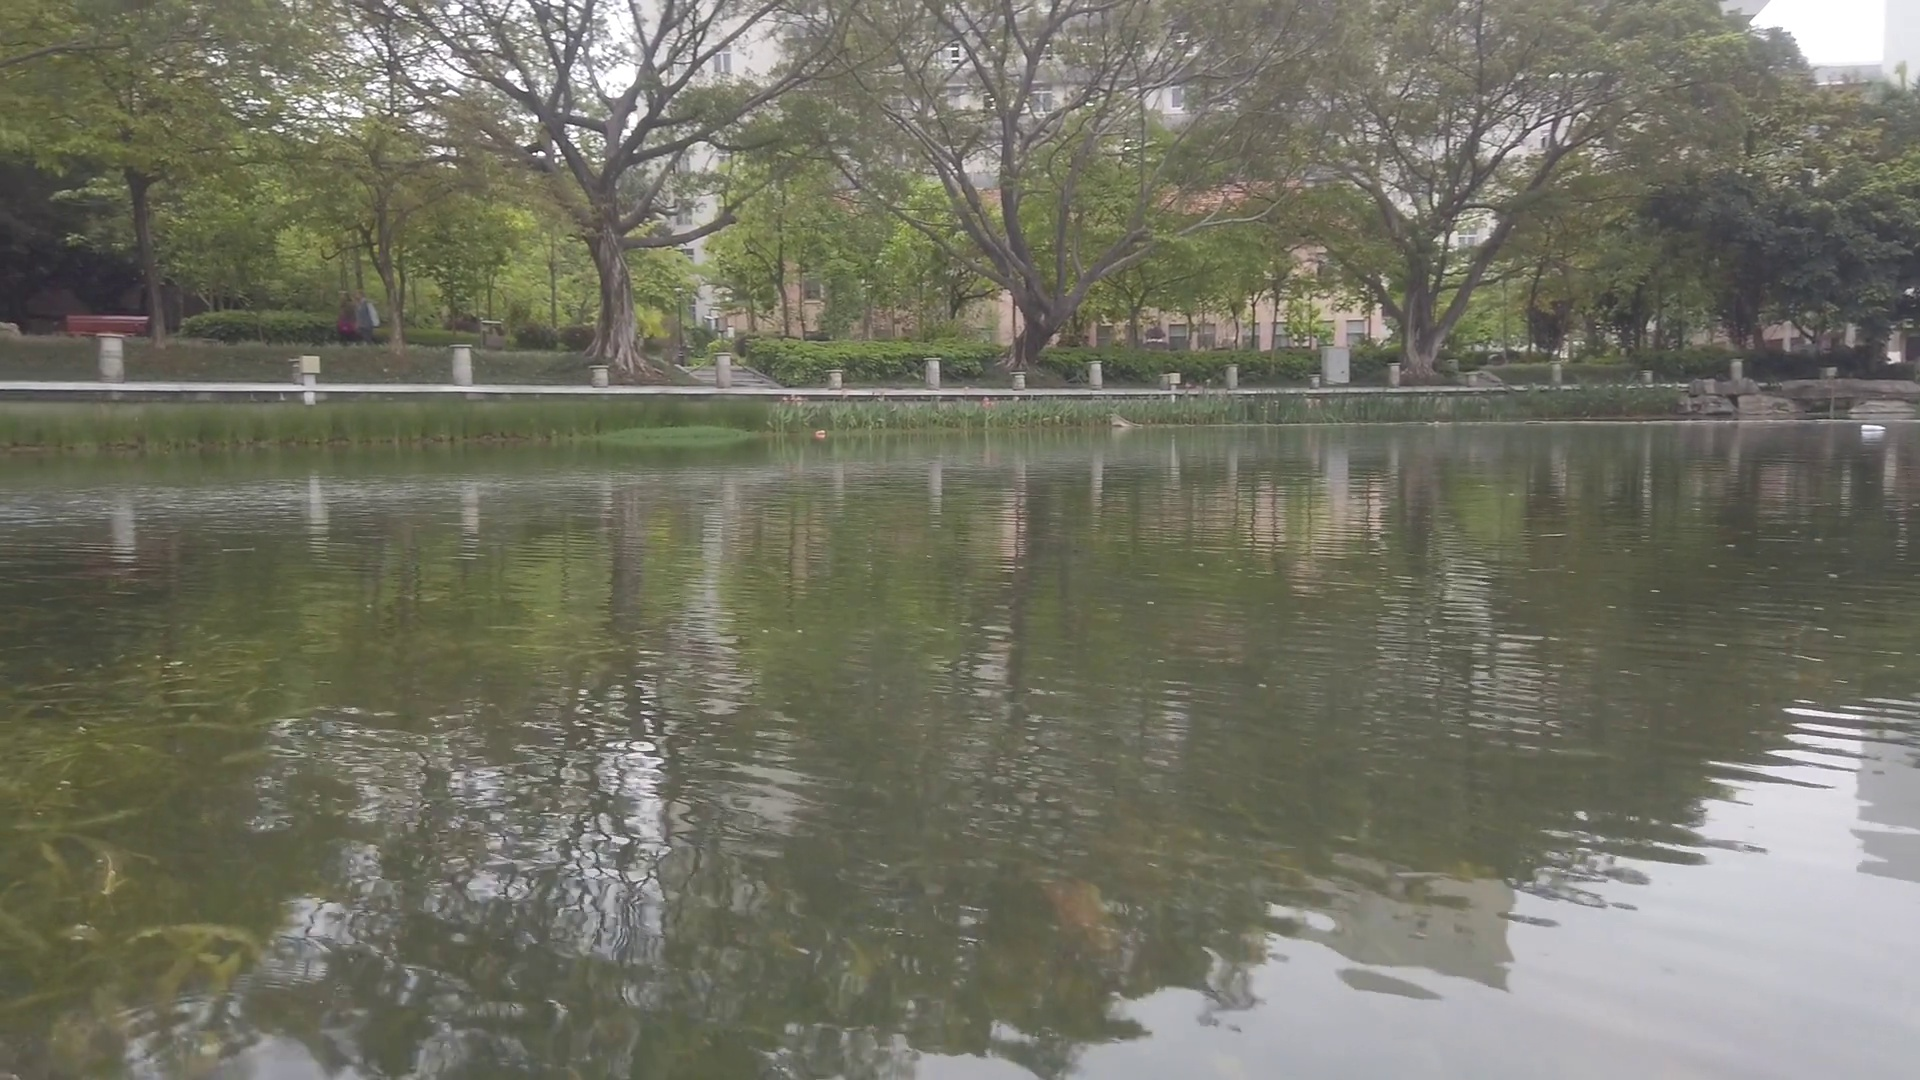bottle: (1859, 425, 1887, 433), (816, 429, 824, 435)
